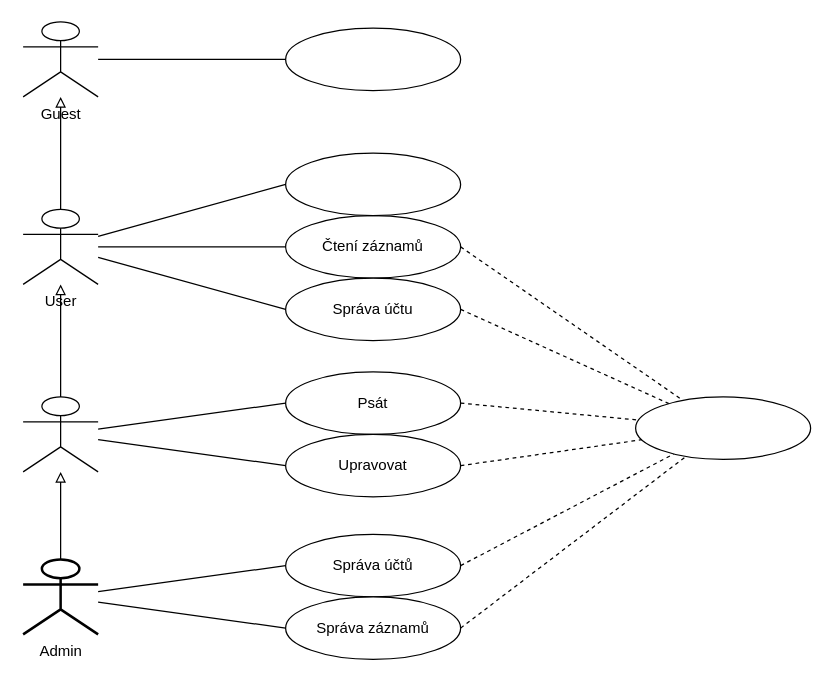
This 833x683 diagram has some shape labels left out. The centre of each missing label's shape, as x and y in pixels:
"Author" belongs at point (60, 434).
"Databáze" belongs at point (722, 427).
"Odhlásit se" belongs at point (372, 184).
"Přihlásit se" belongs at point (372, 59).
